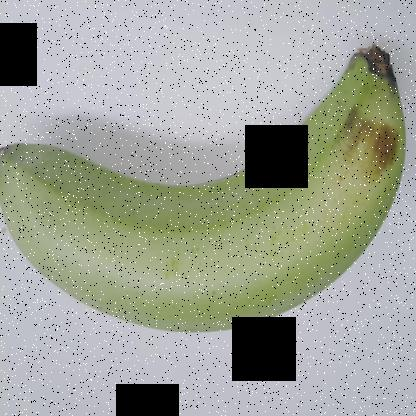freshunripe: (0, 29, 415, 351)
